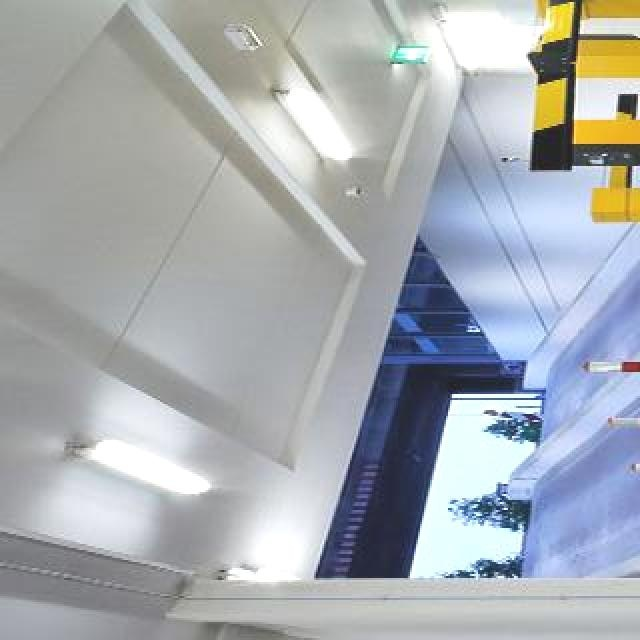fluorescent tube: (44, 407, 240, 515), (269, 75, 378, 180)
